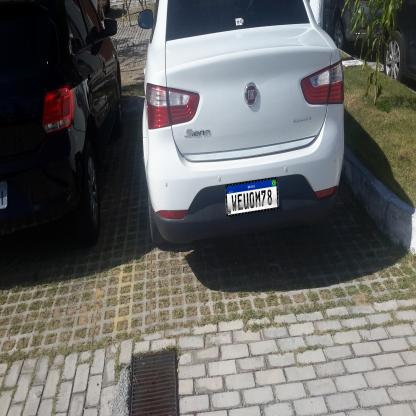PlacaM: (226, 177, 278, 217)
